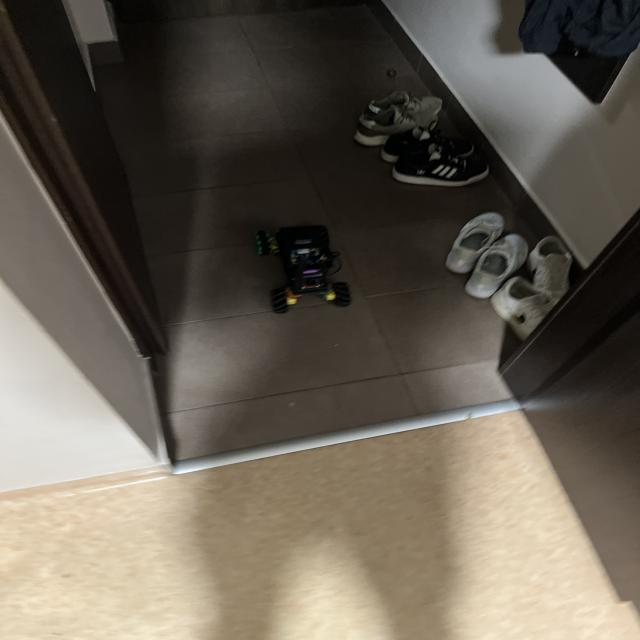robot: (255, 225, 351, 313)
